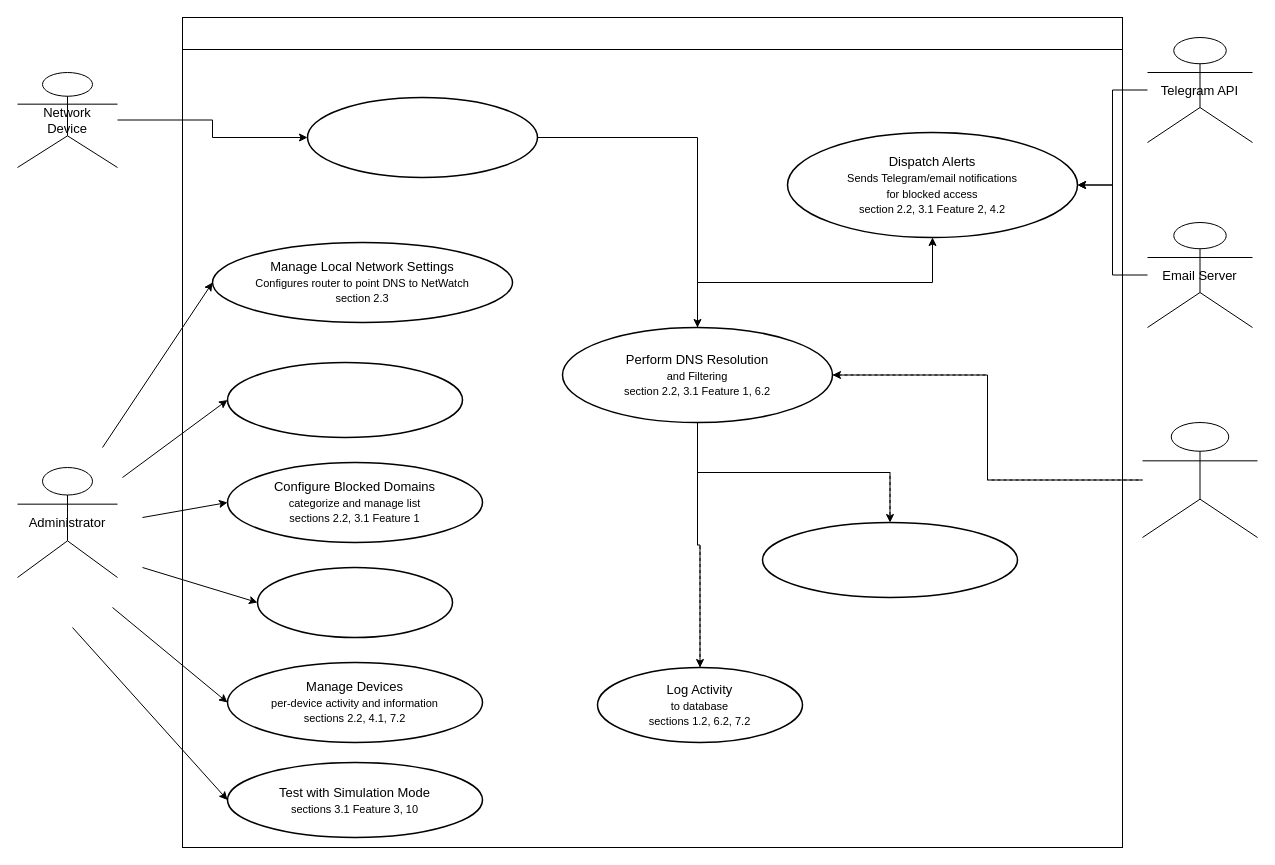
This 1275x865 diagram has some shape labels left out. Each missing label, with the centre of its shape:
"Access Web Dashboard Hosts http://localhost:5000 sections 2.3, 4.1" belongs at [344,399].
"Check Blocked Domain Status using database, 6.2" belongs at [889,559].
"External Resolver (e.g., 8.8.8.8)" belongs at [1200,480].
"NetWatch System" belongs at [652,33].
"Send DNS Query Devices managing requests section 1.2, 2.1, 6.2" belongs at [422,137].
"View Access Logs sections 4.1, 7.2" belongs at [354,602].
